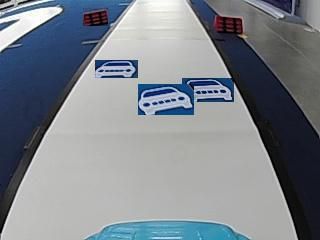bomb: (212, 15, 244, 32)
